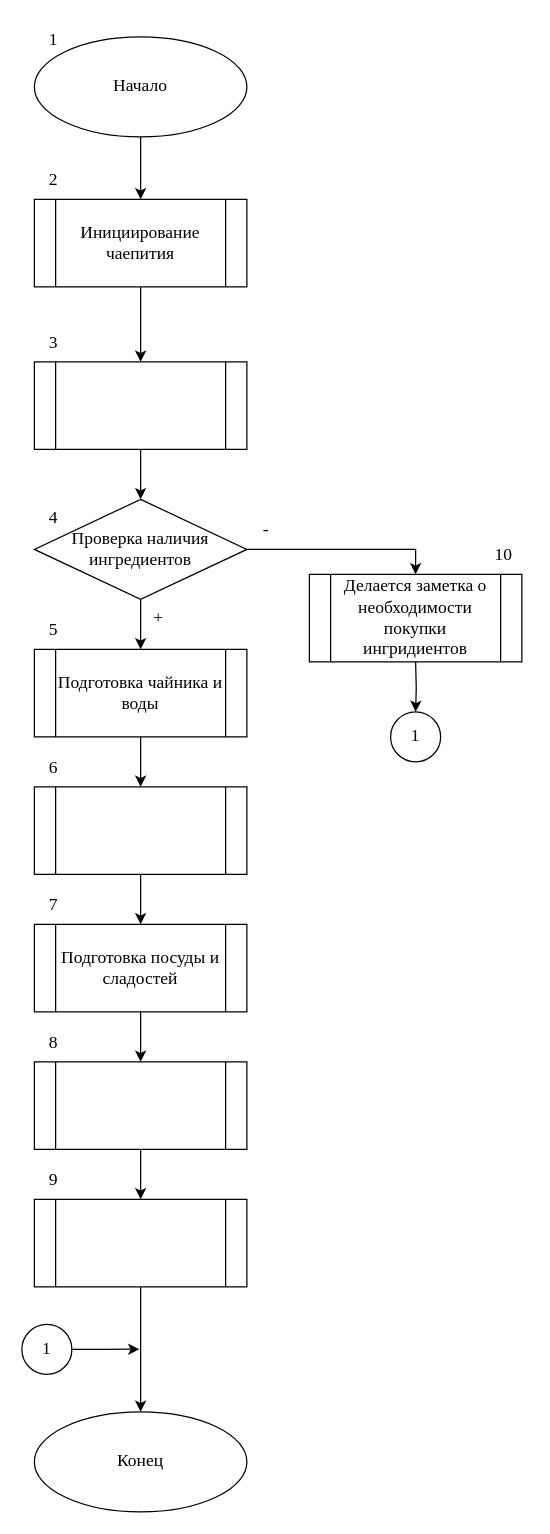
The diagram is 550 pixels wide and 1534 high, and some of its shapes have lost their labels. The centre of each missing label's shape, as x and y in pixels:
Заваривание чая: point 140,830
Обсуждение выбора чая и сладостей: point 140,405
Подача чая и сладостей на стол: point 140,1242
Сервировка стола: point 140,1105
